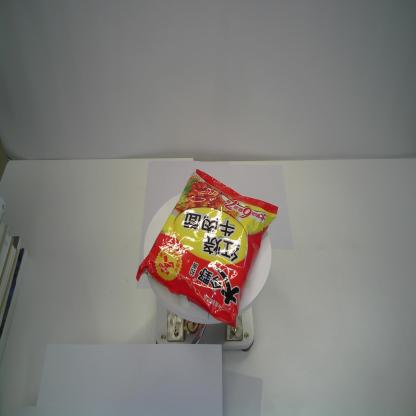Instant Noodles: (134, 166, 280, 331)
